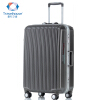luggage: (23, 0, 75, 100)
